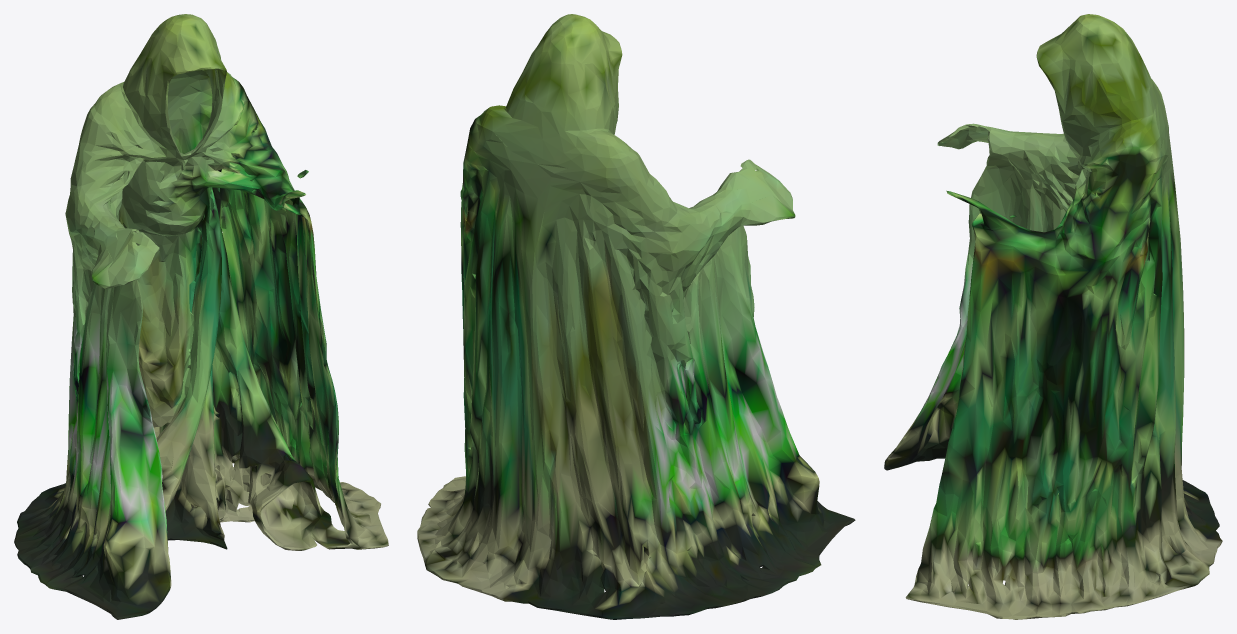
File: graveyardGhost.glb
The picture shows the model from 3 angles, left to right: view 1: azimuth 30°, elevation 25°; view 2: azimuth 150°, elevation 25°; view 3: azimuth 270°, elevation 25°; orthographic projection. The views are drawn at different scales.
Parts seen in each view (by area): view 1: world; view 2: world; view 3: world.
Boxes of the visible parts, box(x1,y1,x2,y2) form: world: box(14, 14, 388, 619); world: box(417, 14, 855, 619); world: box(884, 14, 1222, 619).
Size of the model in its own units: 0.7111 by 1 by 0.5852.
